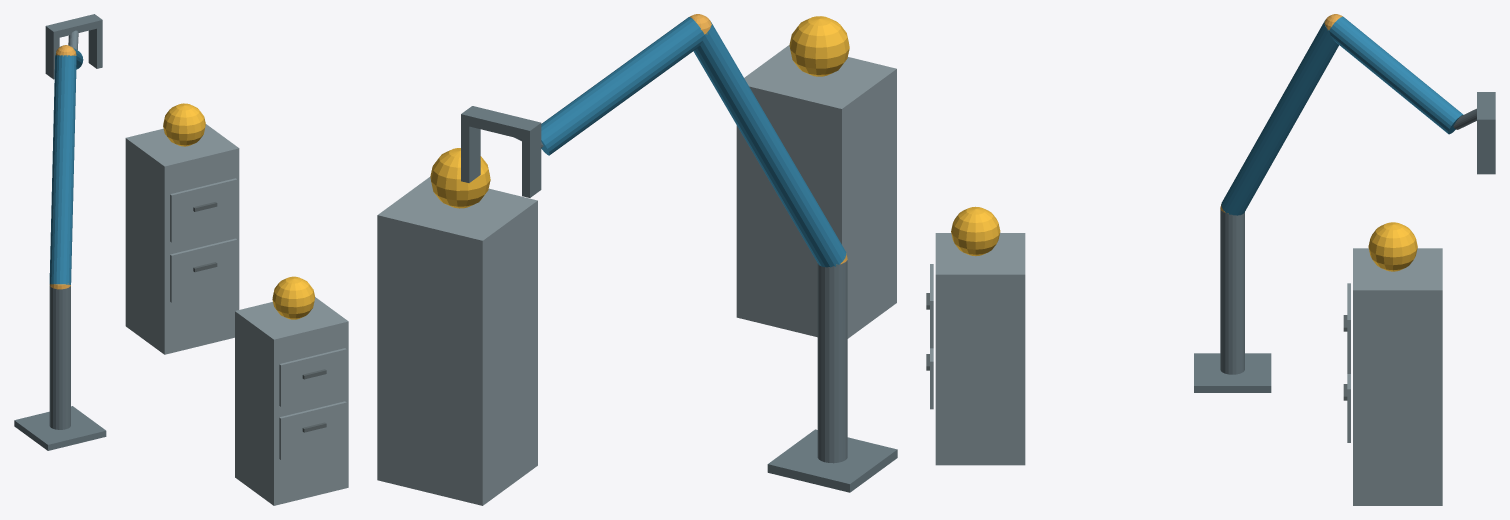
The picture shows the model from 3 angles, left to right: view 1: azimuth 30°, elevation 25°; view 2: azimuth 150°, elevation 25°; view 3: azimuth 270°, elevation 25°; orthographic projection. The views are drawn at different scales.
Parts seen in each view (by area): view 1: cabinet_2 body, cabinet_1 body, moving link 1, cabinet_2 drawer front.001, cabinet_2 drawer front, fixed post, cabinet_1 drawer front, cabinet_1 drawer front.001, pedestal, ball ball_2, released ball_1, gripper bridge (+2 smaller); view 2: cabinet_2 body, cabinet_1 body, moving link 1, fixed post, moving link 2, pedestal, released ball_1, ball ball_2, gripper bridge, gripper finger -1, gripper finger 1; view 3: cabinet_2 body, cabinet_1 body, moving link 1, fixed post, moving link 2, pedestal, ball ball_2, released ball_1, gripper finger 1, gripper bridge.
Boxes of the visible parts, box(x1,y1,x2,y2) form: cabinet_2 body: box(125, 124, 239, 354); cabinet_1 body: box(235, 297, 348, 505); moving link 1: box(49, 55, 76, 284); cabinet_2 drawer front.001: box(170, 178, 237, 242); cabinet_2 drawer front: box(170, 238, 237, 302); fixed post: box(49, 286, 70, 429); cabinet_1 drawer front: box(279, 401, 346, 459); cabinet_1 drawer front.001: box(279, 348, 346, 406); pedestal: box(14, 406, 106, 450); ball ball_2: box(163, 103, 205, 146); released ball_1: box(272, 276, 314, 319); gripper bridge: box(45, 14, 102, 38); cabinet_2 body: box(377, 177, 537, 505); cabinet_1 body: box(736, 45, 896, 338); moving link 1: box(693, 22, 846, 267); fixed post: box(817, 260, 847, 463); moving link 2: box(541, 17, 704, 155); pedestal: box(767, 429, 897, 492); released ball_1: box(789, 16, 849, 76); ball ball_2: box(430, 148, 490, 208); gripper bridge: box(461, 106, 541, 141); gripper finger -1: box(522, 133, 541, 197); gripper finger 1: box(461, 124, 480, 182); cabinet_2 body: box(1353, 248, 1442, 505); cabinet_1 body: box(935, 233, 1025, 465); moving link 1: box(1221, 20, 1338, 215); fixed post: box(1220, 209, 1244, 374); moving link 2: box(1329, 16, 1463, 134); pedestal: box(1194, 353, 1271, 392); ball ball_2: box(1368, 222, 1417, 271); released ball_1: box(951, 206, 1000, 256); gripper finger 1: box(1477, 128, 1495, 174); gripper bridge: box(1477, 92, 1495, 127).
Size of the model in its own units: 1.12 by 1.39 by 1.84.
